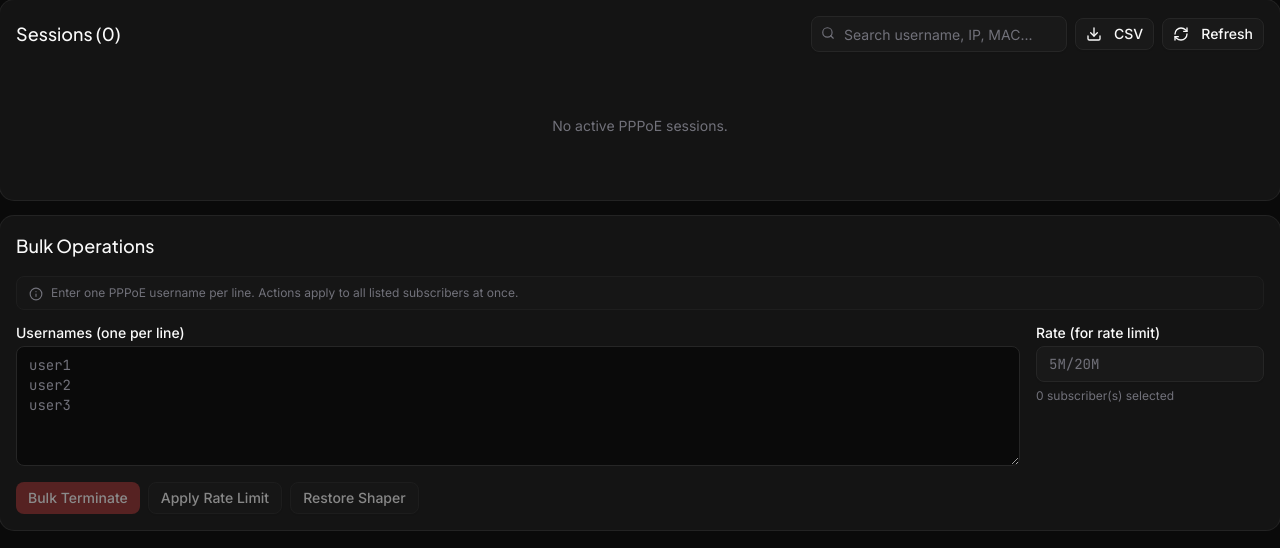
Test: SessionsPage bulk operations › disables Apply Rate Limit when rate is empty even with usernames
This screenshot has width=1280, height=548.
Type "alice" into the text box labelled "Usernames (one per line)" at (518, 406), box x1=16 y1=346 x2=1020 y2=466
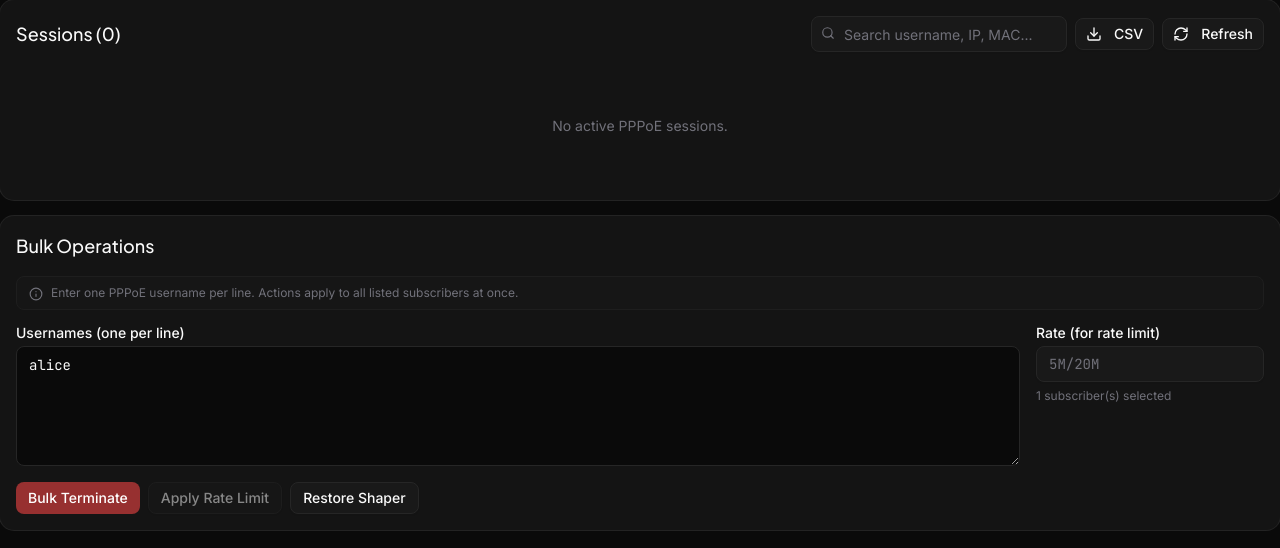
Expected: the button "Apply Rate Limit" is disabled, x1=148 y1=482 x2=282 y2=514
Expected: the button "Bulk Terminate" is enabled, x1=16 y1=482 x2=140 y2=514
Expected: the button "Restore Shaper" is enabled, x1=290 y1=482 x2=419 y2=514
